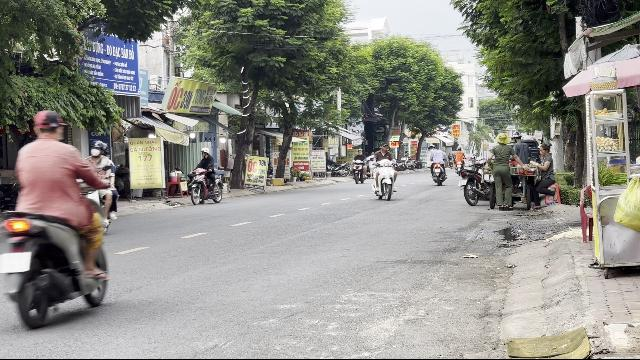helmet: (88, 141, 104, 157)
licenseplate: (1, 252, 32, 272)
motorcyclist: (0, 108, 116, 328)
nohelmet: (32, 109, 64, 139)
